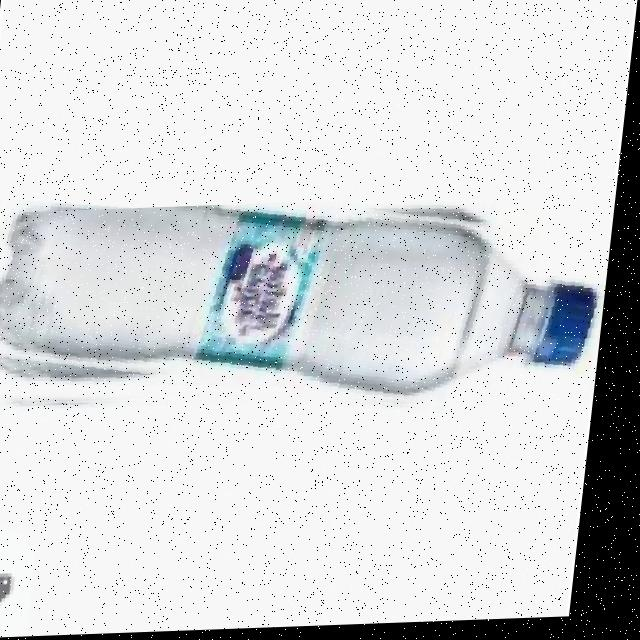litter: (0, 195, 621, 431)
